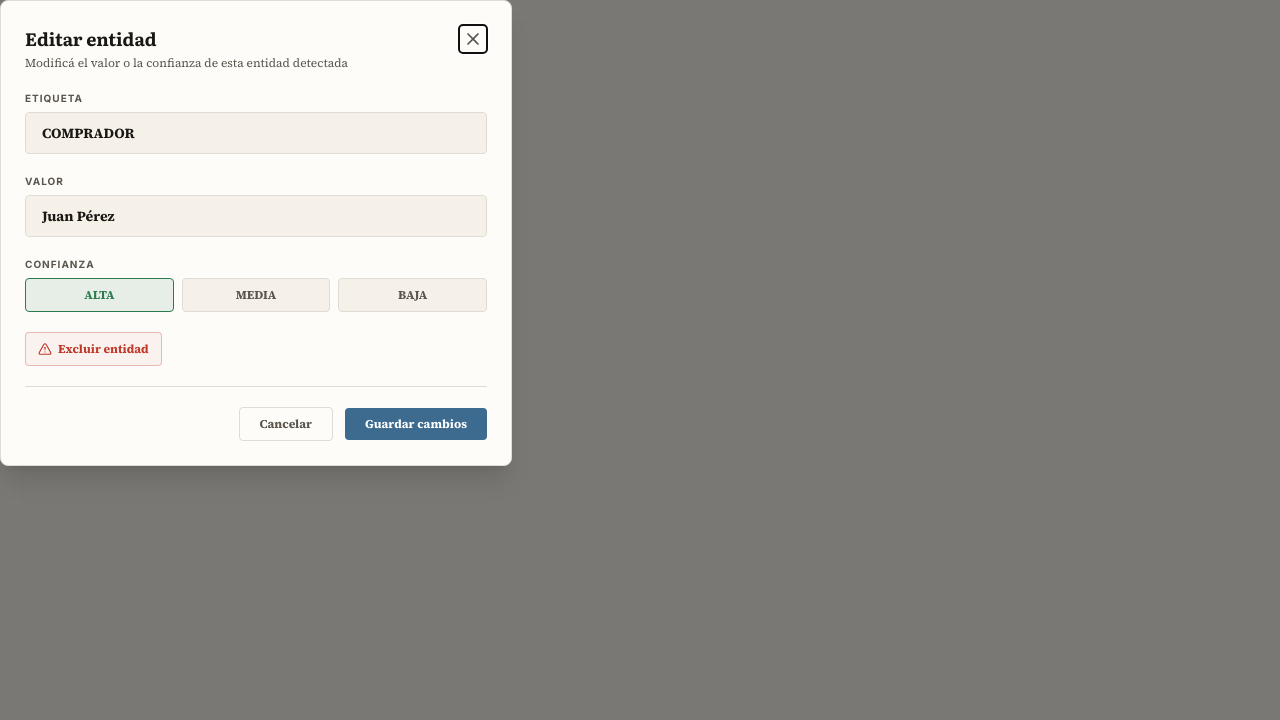
Test: EntityEditModal › clicking Excluir toggles the excluded state and shows Restaurar
The image size is (1280, 720).
// Click to exclude
Step 1. Click the button "Excluir entidad" → (93, 349), box [25, 332, 162, 366]
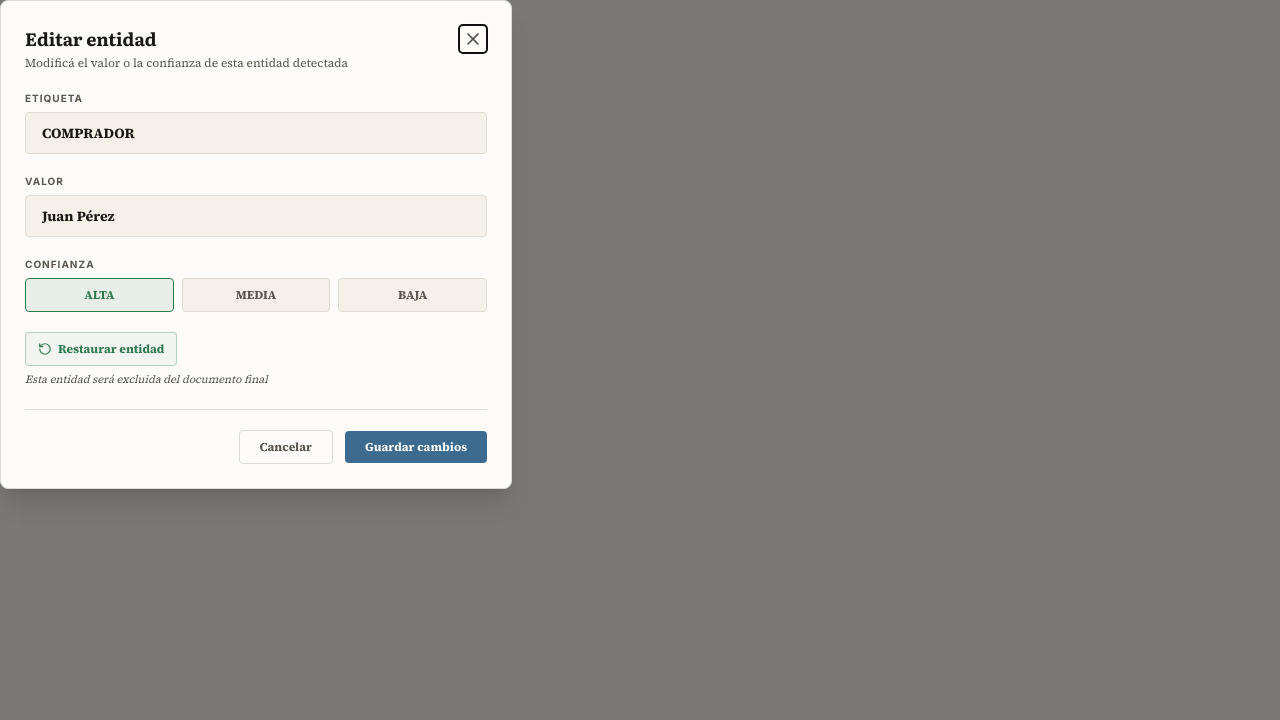
Now the button "Restaurar entidad" is shown
Now the text "Esta entidad será excluida del documento final" is shown, box [25, 372, 268, 387]
// Click to restore
Step 2. Click the button "Restaurar entidad" → (101, 349), box [25, 332, 178, 366]
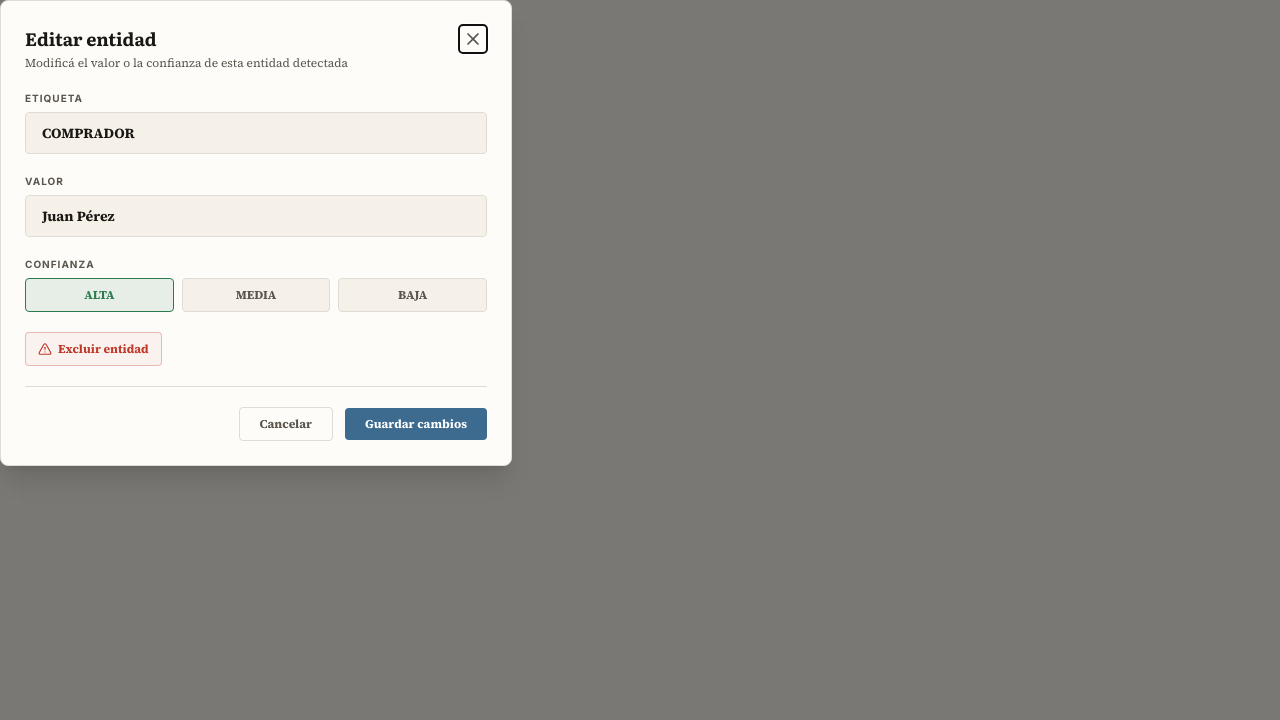
Now the button "Excluir entidad" is shown, box [25, 332, 162, 366]
